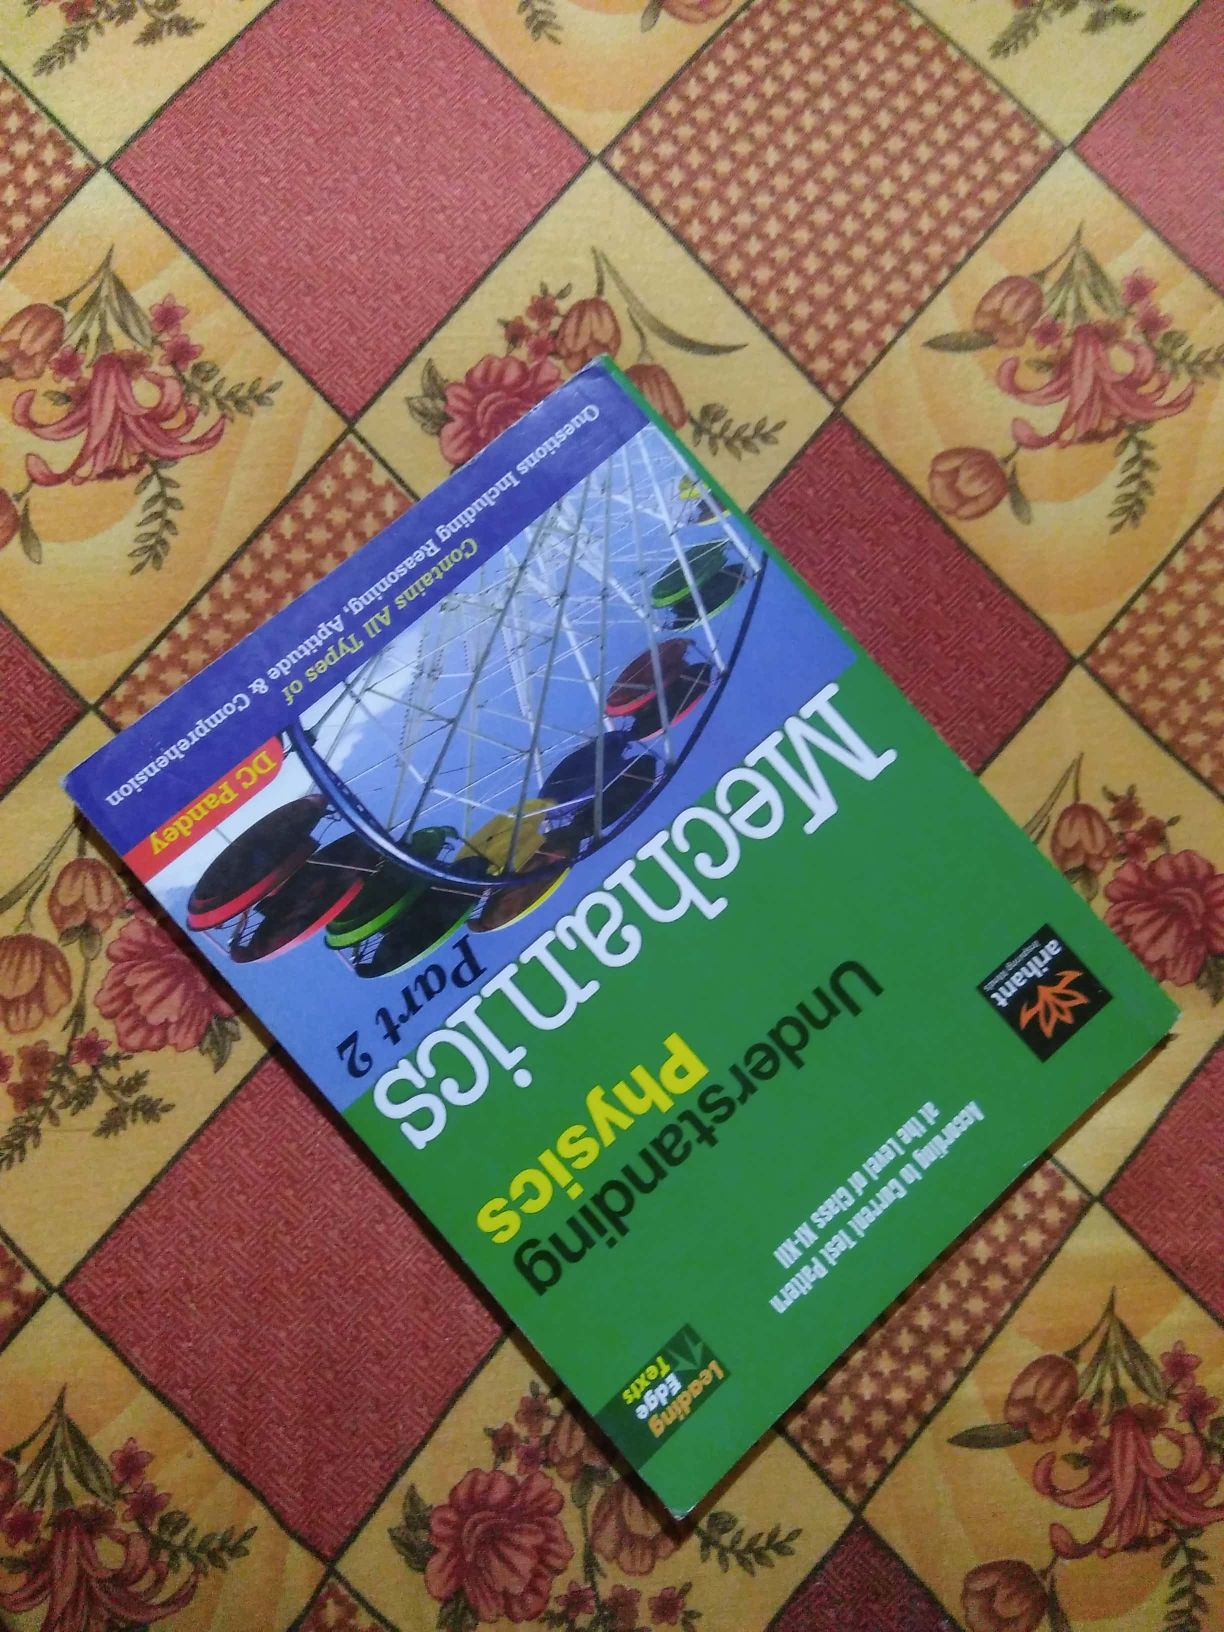mechanics: (102, 397, 1191, 1461)
